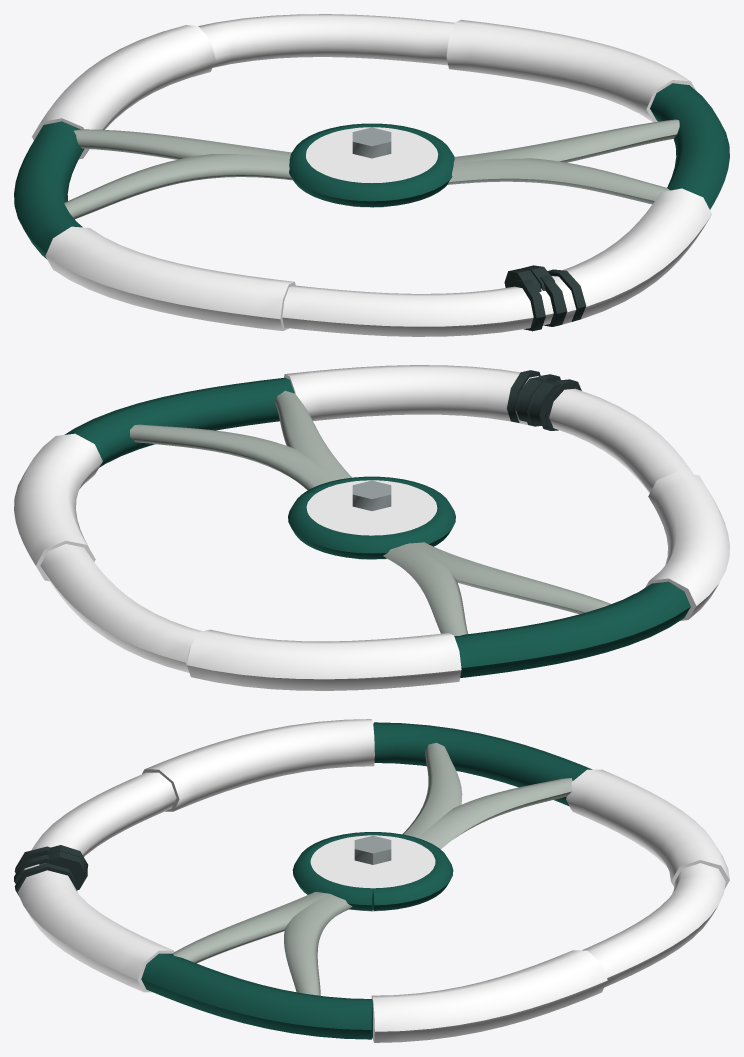
The model's file is Wheel_20_SR_青磁・黒稜.glb.
3 renders of one model, top to bottom at view 1: azimuth 30°, elevation 25°; view 2: azimuth 150°, elevation 25°; view 3: azimuth 270°, elevation 25°, orthographic. The views are drawn at different scales.
Visible parts, largest first — view 1: Wheel_20_SR; view 2: Wheel_20_SR; view 3: Wheel_20_SR.
Boxes of the visible parts, <box> form: Wheel_20_SR: <box>14,14,729,336</box>; Wheel_20_SR: <box>14,365,729,690</box>; Wheel_20_SR: <box>14,719,729,1042</box>.
Size of the model in its own units: 0.3376 by 0.0299 by 0.3386.
4 materials, 4 textured.
